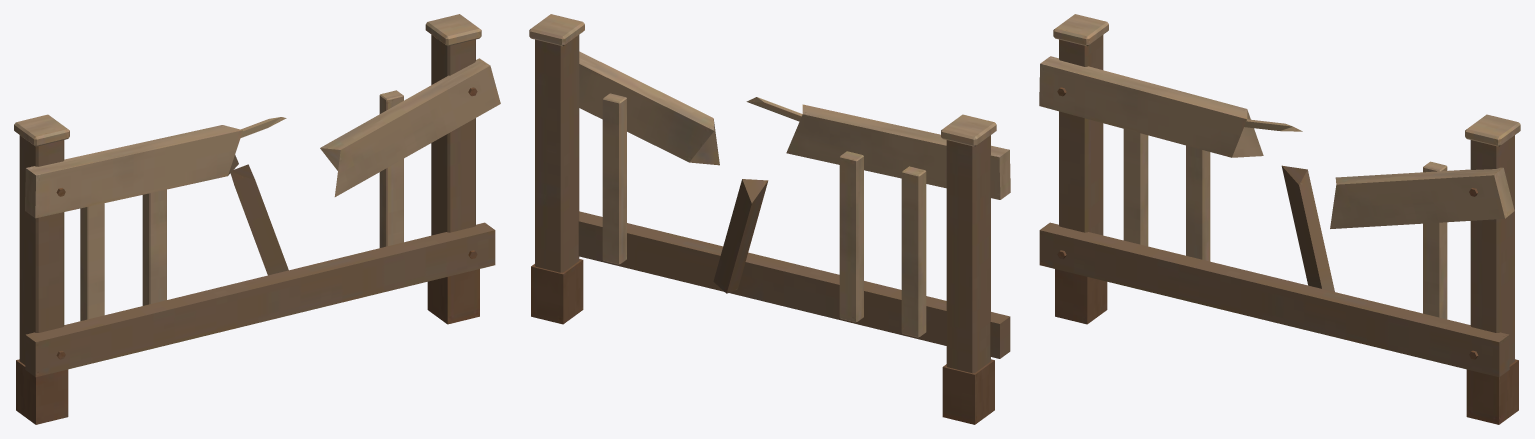
The model's file is BR20_broken_railing_v2.glb.
The picture shows the model from 3 angles, left to right: view 1: azimuth 30°, elevation 25°; view 2: azimuth 150°, elevation 25°; view 3: azimuth 330°, elevation 25°; orthographic projection.
Visible parts, largest first — view 1: Timber post; view 2: Timber post; view 3: Timber post.
Part boxes in pixels (<box>): Timber post: <box>14,14,500,424</box>; Timber post: <box>529,14,1010,424</box>; Timber post: <box>1039,14,1520,424</box>.
Bounding box in the file's own units: 2 × 1.18 × 0.2544.
Materials: 3 (3 with a texture image).
